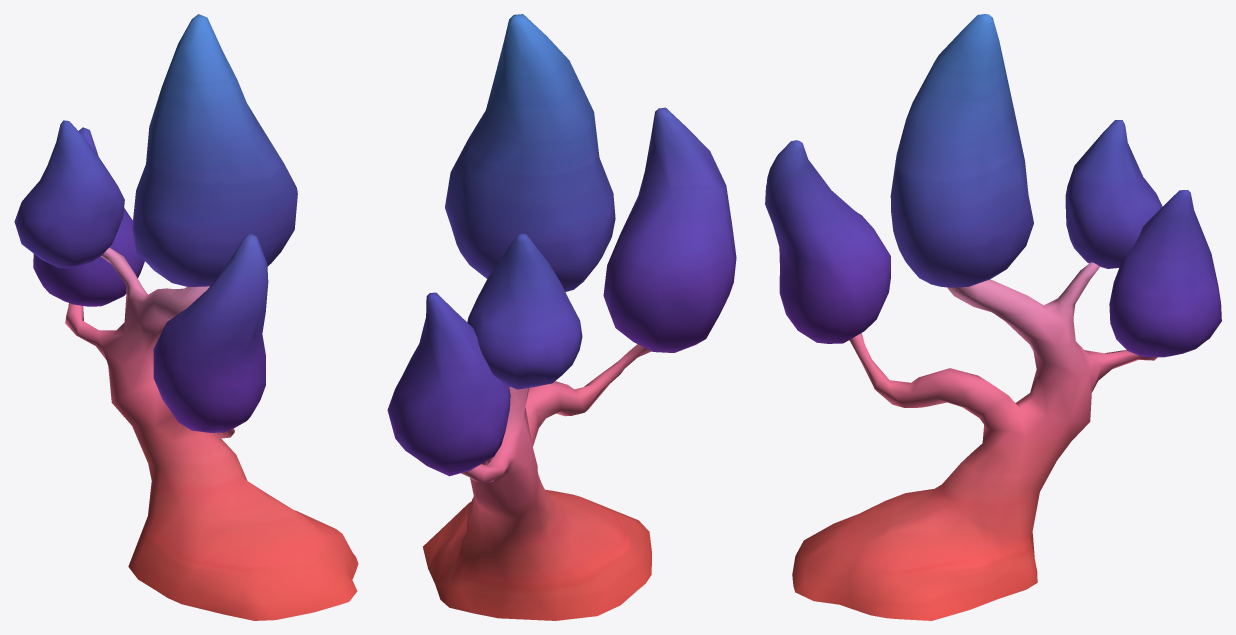
The model's file is mushroom_tree.glb.
The picture shows the model from 3 angles, left to right: view 1: azimuth 30°, elevation 25°; view 2: azimuth 150°, elevation 25°; view 3: azimuth 270°, elevation 25°; orthographic projection. The views are drawn at different scales.
Parts seen in each view (by area): view 1: mushroom_tree; view 2: mushroom_tree; view 3: mushroom_tree.
Boxes of the visible parts, x1=… form: mushroom_tree: x1=14, y1=14, x2=358, y2=620; mushroom_tree: x1=387, y1=14, x2=736, y2=620; mushroom_tree: x1=765, y1=14, x2=1221, y2=620.
Bounding box in the file's own units: 2.18 × 4.88 × 3.67.
Materials: 1 (1 with a texture image).
